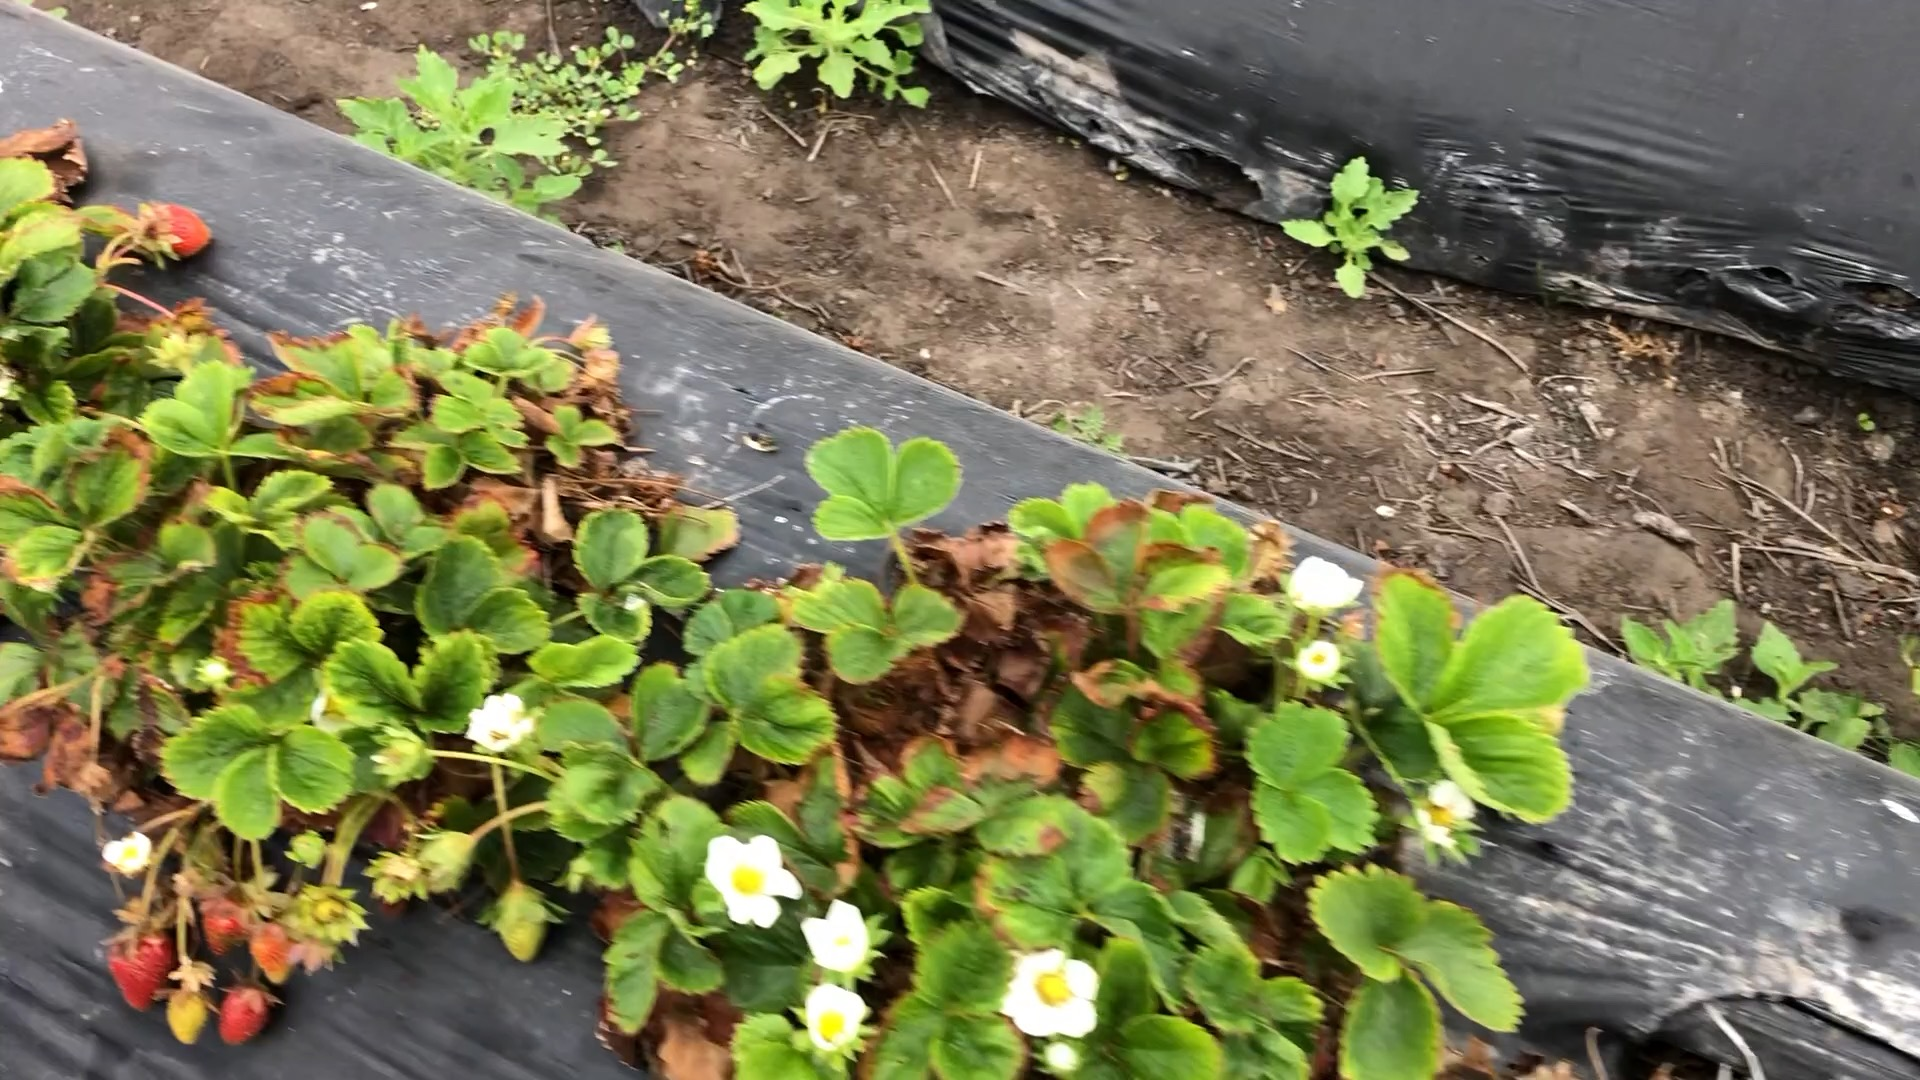ripe_strawberry: (105, 931, 174, 1014), (137, 200, 220, 264), (198, 890, 252, 963)
unripe_strawberry: (215, 978, 284, 1054), (244, 913, 307, 986), (493, 880, 546, 965), (165, 982, 212, 1048)
